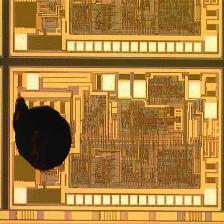PARTICLE: (12, 96, 75, 174)
